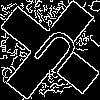U: (25, 25, 83, 84)
